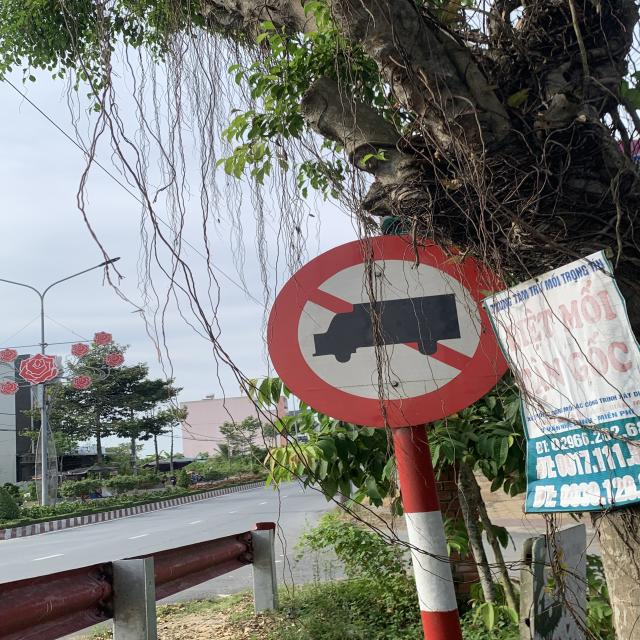Cam_Xe_Tai: (266, 232, 534, 431)
